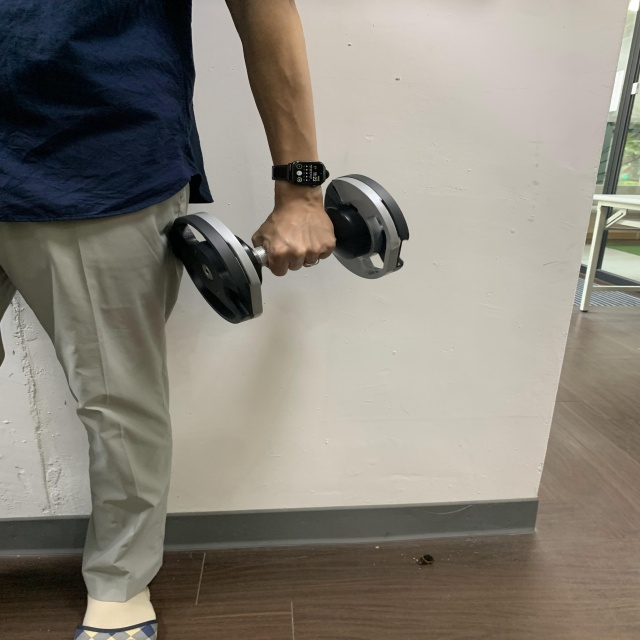02-4kg: (171, 174, 410, 324)
